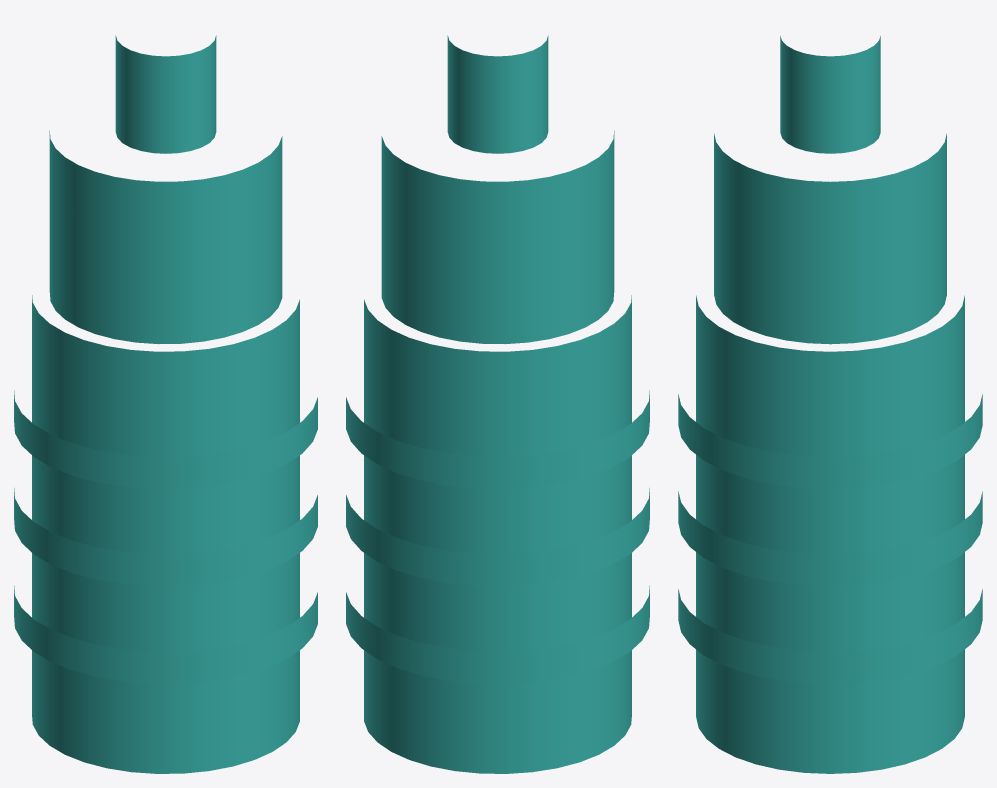
File: submersible_pump_motor.glb
3 renders of one model, left to right at view 1: azimuth 30°, elevation 25°; view 2: azimuth 150°, elevation 25°; view 3: azimuth 270°, elevation 25°, orthographic.
Parts seen in each view (by area): view 1: SubmersiblePumpMotor; view 2: SubmersiblePumpMotor; view 3: SubmersiblePumpMotor.
Part boxes in pixels (bbox=[...]): SubmersiblePumpMotor: bbox=[14, 35, 317, 773]; SubmersiblePumpMotor: bbox=[346, 35, 649, 773]; SubmersiblePumpMotor: bbox=[678, 36, 982, 773].
Size of the model in its own units: 1.7 by 4.2 by 1.7.
